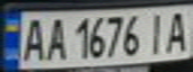1: (69, 13, 90, 60)
6: (121, 11, 148, 57), (87, 12, 109, 60)
7: (103, 12, 124, 59)
A: (18, 15, 48, 63), (163, 8, 193, 55), (42, 15, 69, 62)
I: (142, 9, 169, 56)
